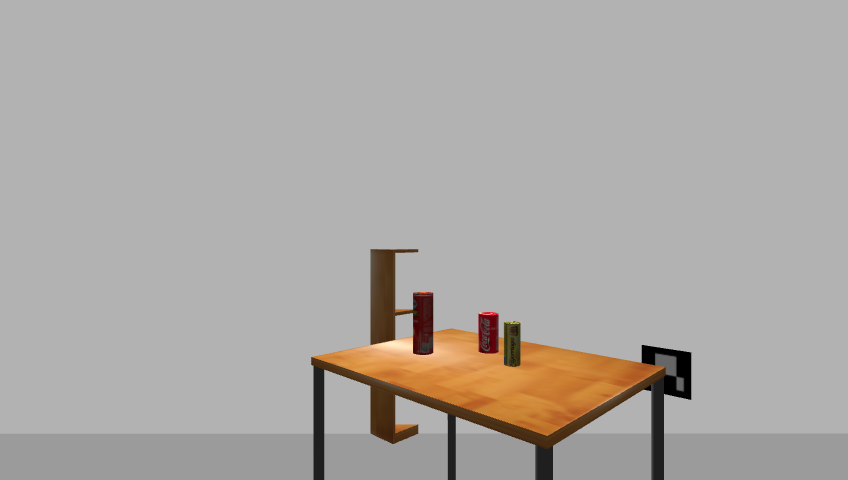aruco marker: (637, 344, 697, 402)
biscuits pack: (504, 321, 522, 368)
bookshelf: (366, 245, 422, 447)
coke can: (477, 311, 500, 355)
dinner table: (303, 328, 675, 480)
pringles can: (411, 291, 436, 357)
